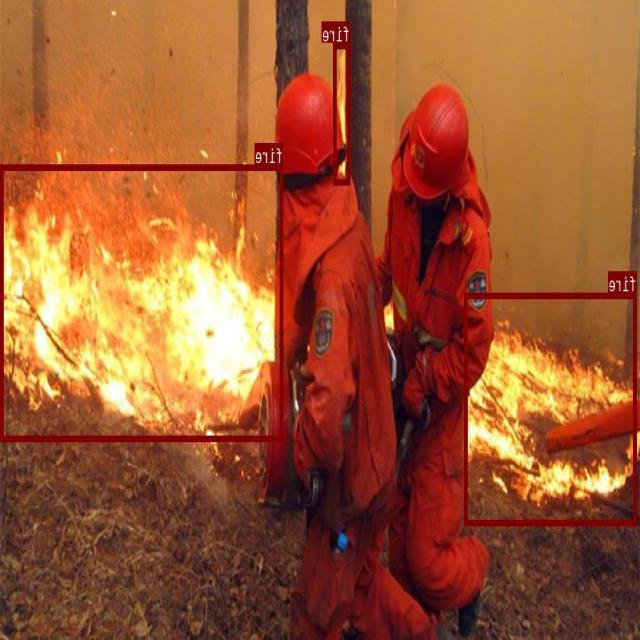fire: (1, 163, 284, 440), (465, 292, 637, 525), (334, 42, 351, 184)
